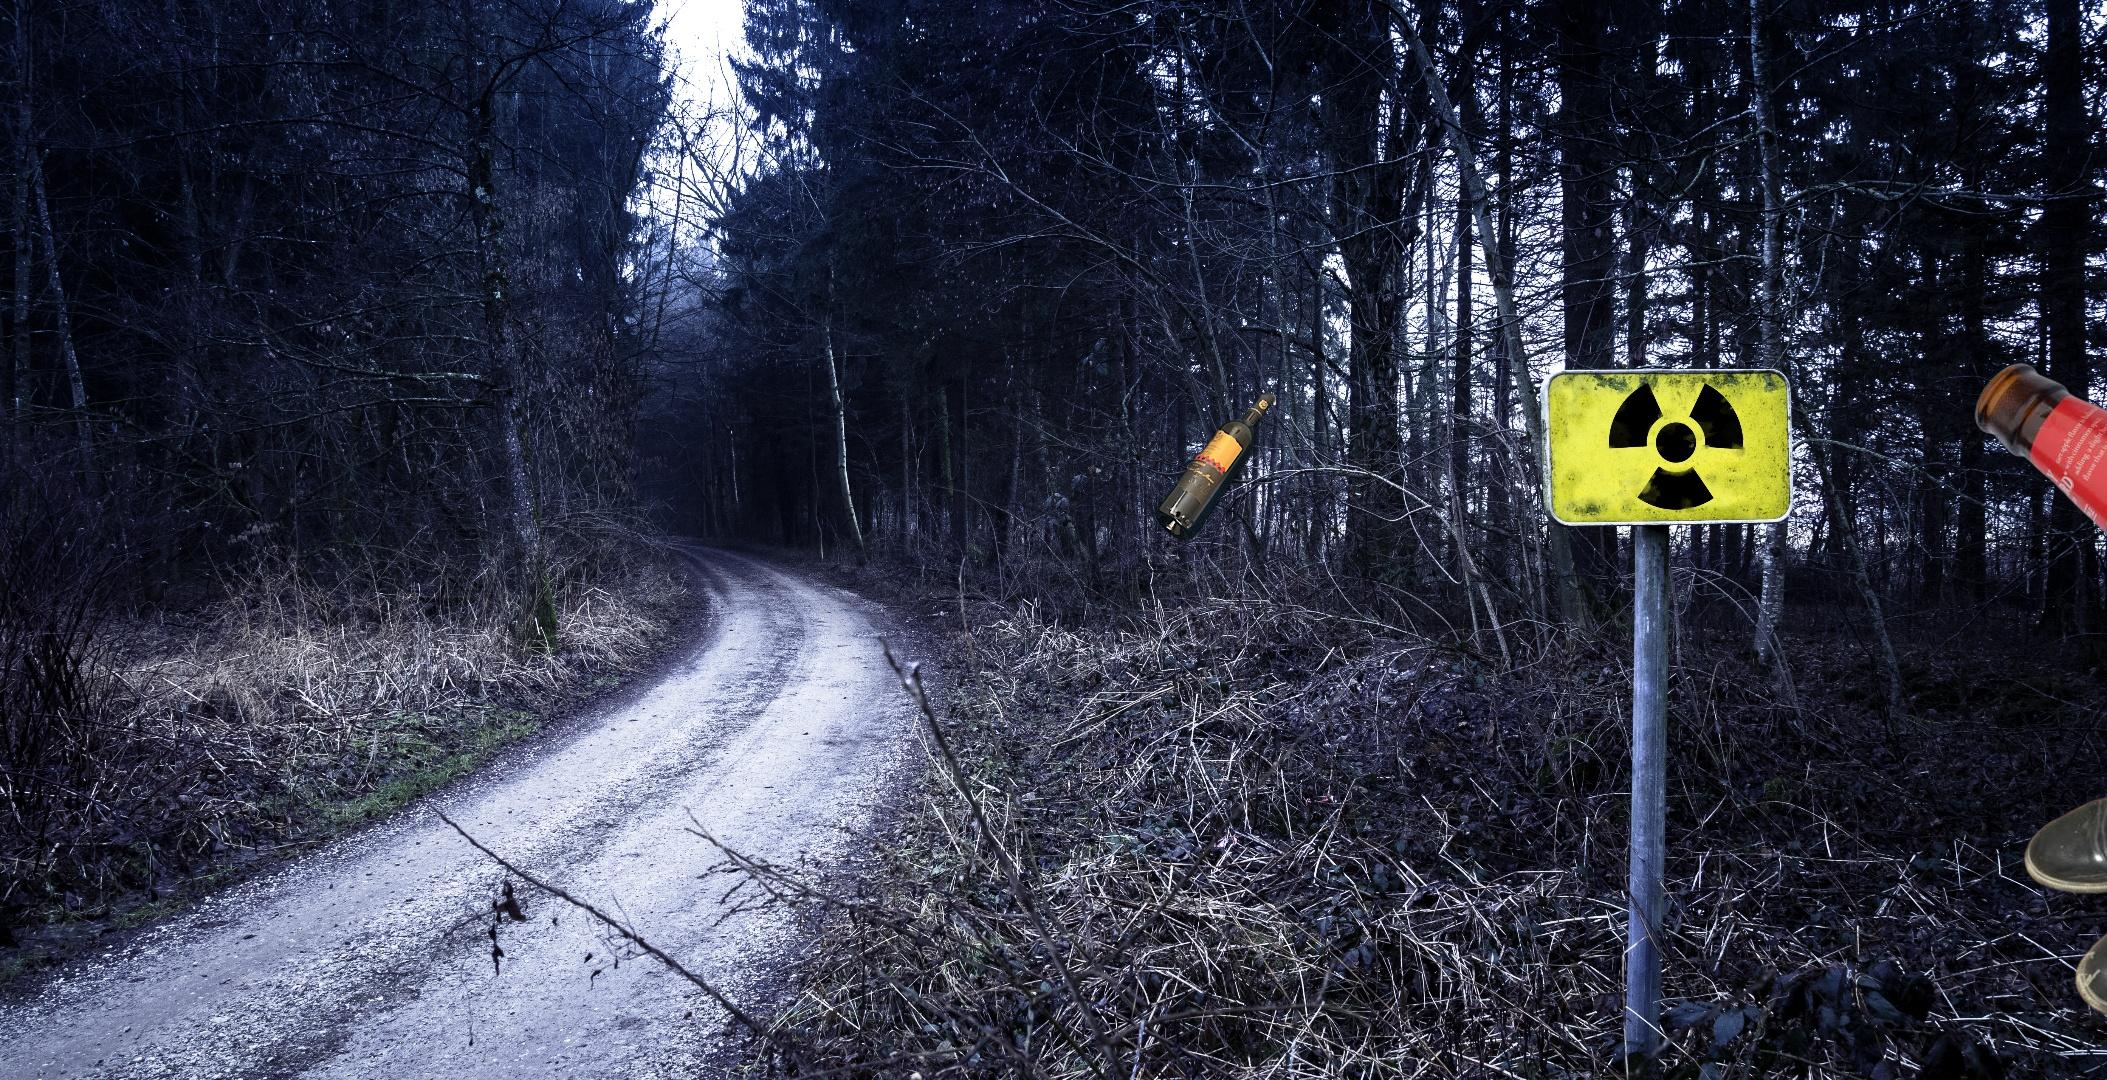glass: (1971, 361, 2107, 643), (1151, 387, 1281, 548)
shoes: (2022, 668, 2107, 1024)
